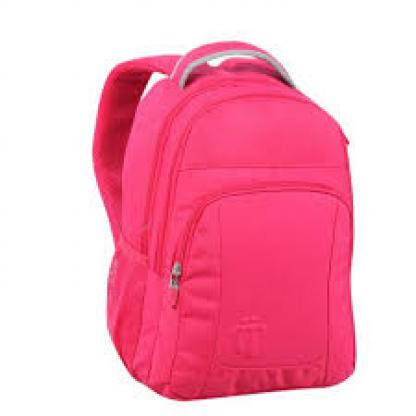morral: (76, 26, 375, 401)
